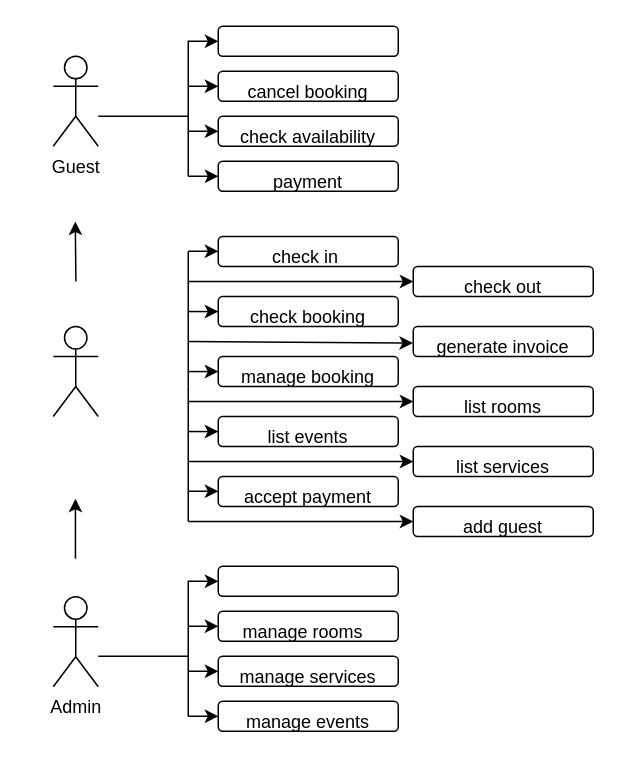
The diagram is 620 pixels wide and 759 high, and some of its shapes have lost their labels. Each missing label, with the centre of its shape:
"make booking" goes at (307,40).
"Receptionist" goes at (75,371).
"update database" goes at (307,580).
